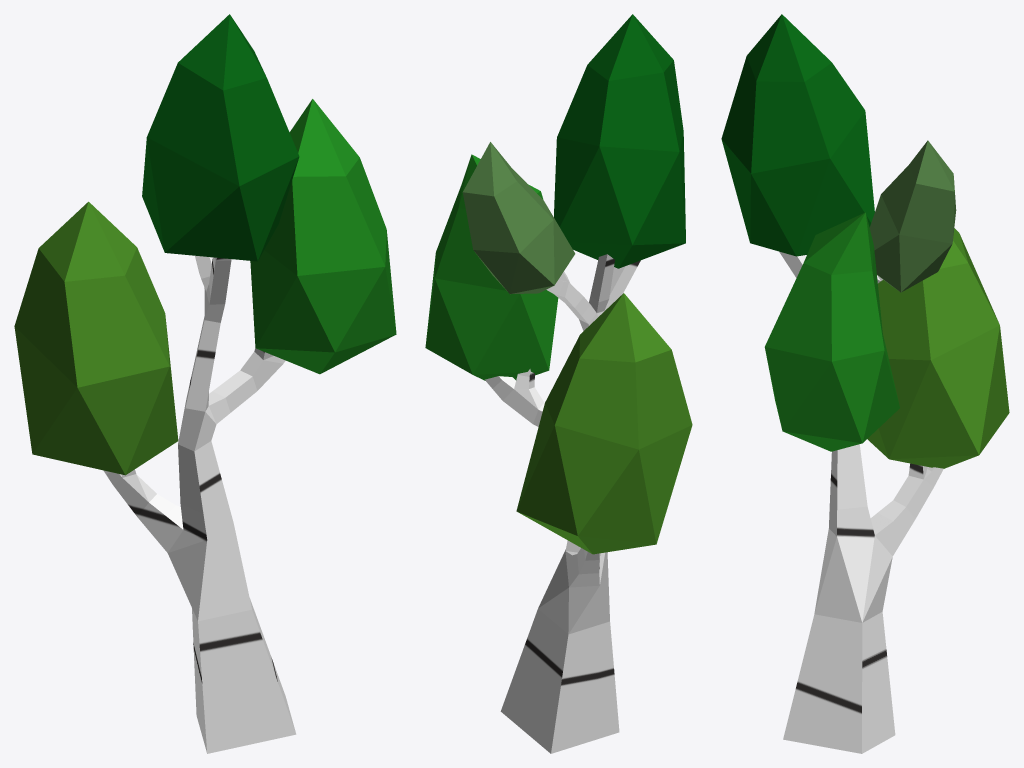
Rendered from BirchTree_v1.fbx.
3 renders of one model, left to right at view 1: azimuth 30°, elevation 25°; view 2: azimuth 150°, elevation 25°; view 3: azimuth 270°, elevation 25°, orthographic. The views are drawn at different scales.
Parts seen in each view (by area): view 1: Leaf_v1_med, TreeTrunk, Leaf_v1_med.001, Leaf_v2_med; view 2: Leaf_v1_med, Leaf_v1_med.001, TreeTrunk, Leaf_v2_med, Leaf_v2_med.001; view 3: Leaf_v1_med.001, TreeTrunk, Leaf_v2_med, Leaf_v1_med, Leaf_v2_med.001.
Part boxes in pixels (x1,y1,x2,y2): Leaf_v1_med: (14,201,178,475); TreeTrunk: (103,255,296,753); Leaf_v1_med.001: (142,14,299,261); Leaf_v2_med: (250,99,396,374); Leaf_v1_med: (516,293,692,554); Leaf_v1_med.001: (554,14,685,268); TreeTrunk: (485,254,640,753); Leaf_v2_med: (425,154,558,380); Leaf_v2_med.001: (462,142,575,294); Leaf_v1_med.001: (721,14,874,256); TreeTrunk: (779,251,943,753); Leaf_v2_med: (764,212,899,451); Leaf_v1_med: (867,228,1009,468); Leaf_v2_med.001: (869,140,956,292).
Size of the model in its own units: 306 by 746 by 275.
Materials: 5 (1 with a texture image).
